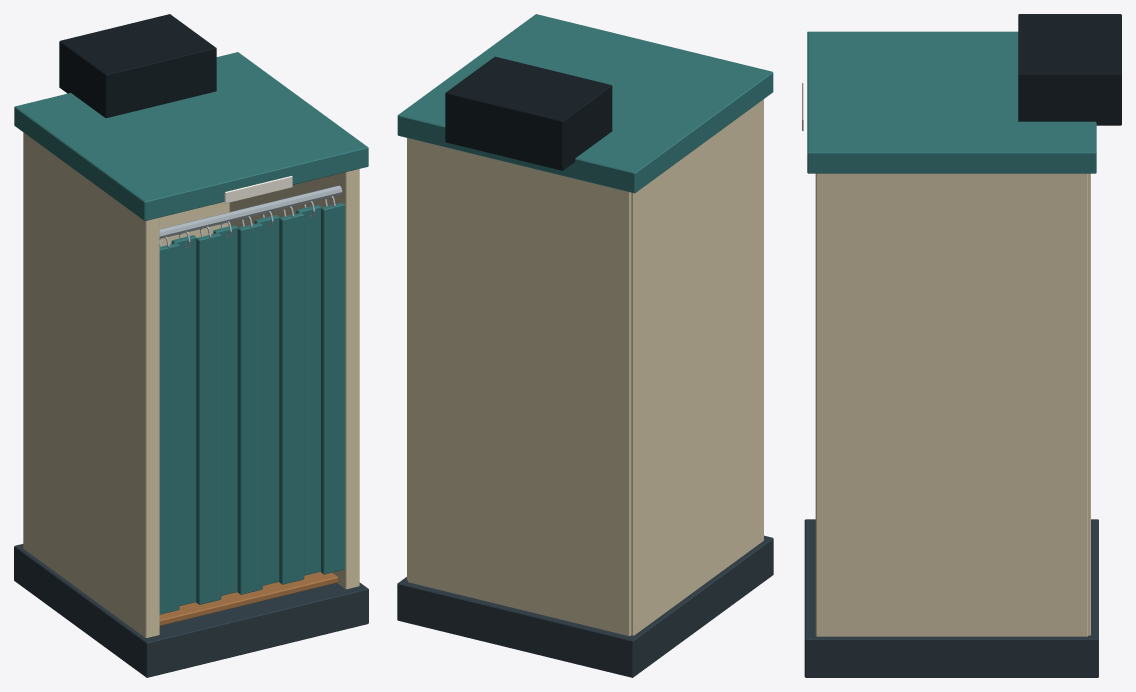
Rendered from b20_portable_outdoor_shower_cubicle.glb.
3 views of the same model, side by side, from view 1: azimuth 30°, elevation 25°; view 2: azimuth 150°, elevation 25°; view 3: azimuth 270°, elevation 25° (orthographic). The views are drawn at different scales.
Parts seen in each view (by area): view 1: b20_portable_outdoor_shower_cubicle; view 2: b20_portable_outdoor_shower_cubicle; view 3: b20_portable_outdoor_shower_cubicle.
Boxes of the visible parts, x1,y1,x2,y2 form: b20_portable_outdoor_shower_cubicle: (14,14,368,677); b20_portable_outdoor_shower_cubicle: (397,14,773,677); b20_portable_outdoor_shower_cubicle: (802,14,1121,677).
Bounding box in the file's own units: 1.19 × 2.63 × 1.33.
